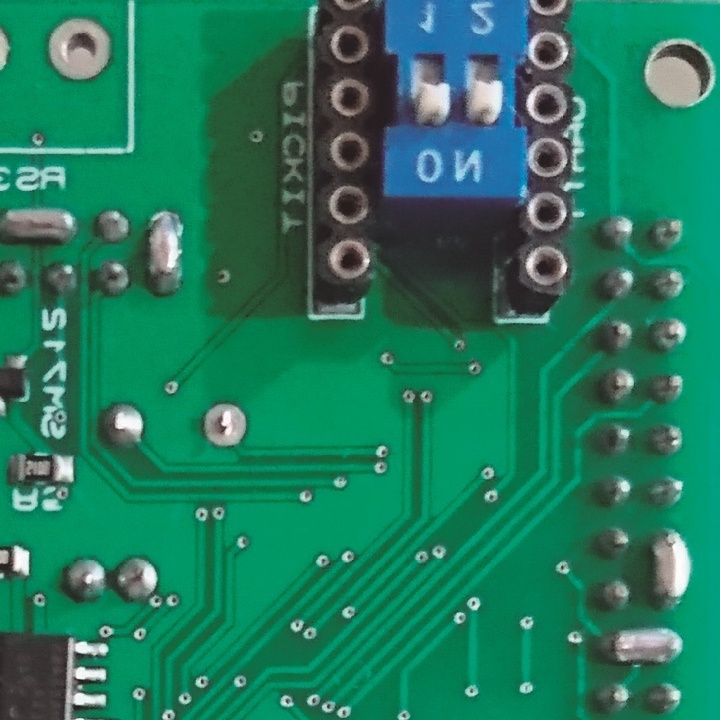F: (44, 12, 117, 86), (199, 399, 256, 451)
P: (650, 523, 696, 615), (1, 201, 86, 250), (140, 209, 186, 298), (599, 624, 687, 669)
